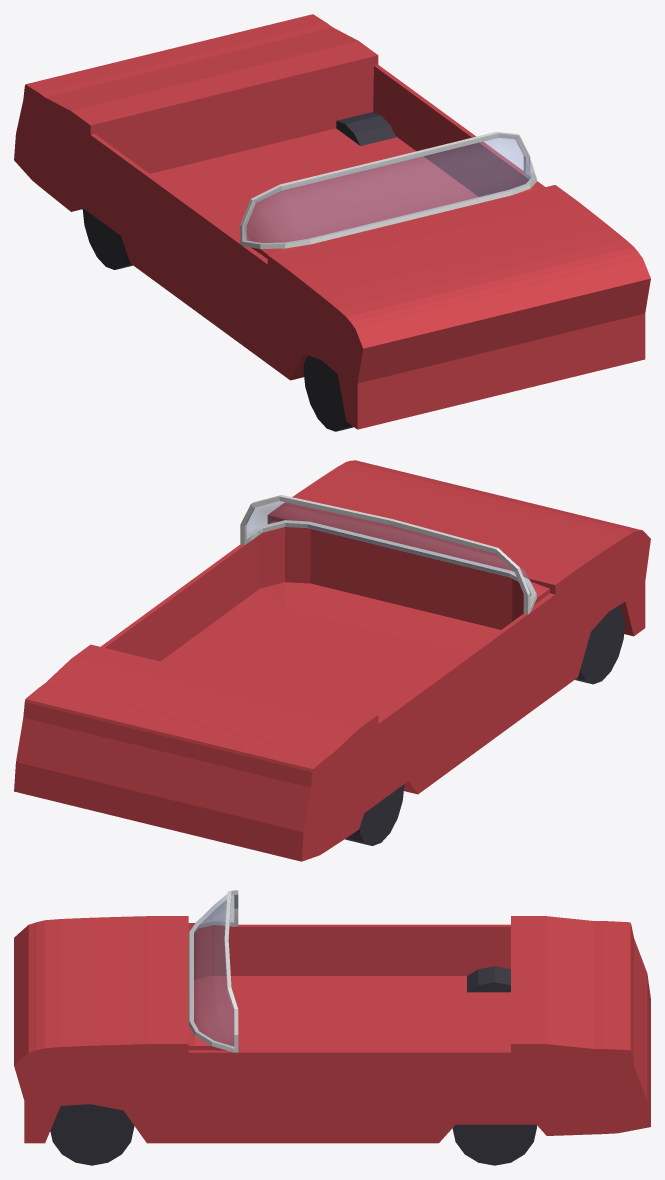
Rendered from car01.fbx.
The picture shows the model from 3 angles, top to bottom: view 1: azimuth 30°, elevation 25°; view 2: azimuth 150°, elevation 25°; view 3: azimuth 270°, elevation 25°; orthographic projection. The views are drawn at different scales.
Parts seen in each view (by area): view 1: car, frontWindow_glass, frontWindow_frame, wheel_front.R, wheel_back.R, wheel_back.L; view 2: car, frontWindow_glass, frontWindow_frame, wheel_front.R, wheel_back.R; view 3: car, frontWindow_glass, wheel_front.L, wheel_back.L, frontWindow_frame, wheel_back.R.
Part boxes in pixels (bbox=[...]): car: bbox=[14, 14, 650, 429]; frontWindow_glass: bbox=[243, 135, 535, 243]; frontWindow_frame: bbox=[240, 131, 536, 248]; wheel_front.R: bbox=[303, 355, 353, 431]; wheel_back.R: bbox=[82, 208, 132, 269]; wheel_back.L: bbox=[336, 112, 395, 145]; car: bbox=[14, 460, 650, 861]; frontWindow_glass: bbox=[245, 501, 535, 604]; frontWindow_frame: bbox=[240, 495, 536, 614]; wheel_front.R: bbox=[575, 605, 625, 684]; wheel_back.R: bbox=[345, 784, 404, 845]; car: bbox=[14, 916, 650, 1143]; frontWindow_glass: bbox=[190, 894, 237, 1047]; wheel_front.L: bbox=[50, 1104, 134, 1165]; wheel_back.L: bbox=[452, 1124, 536, 1165]; frontWindow_frame: bbox=[188, 890, 238, 1052]; wheel_back.R: bbox=[467, 966, 510, 992].
Bounding box in the file's own units: 200 × 421 × 121.
